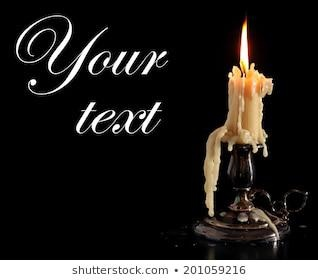fire: (204, 10, 279, 222)
